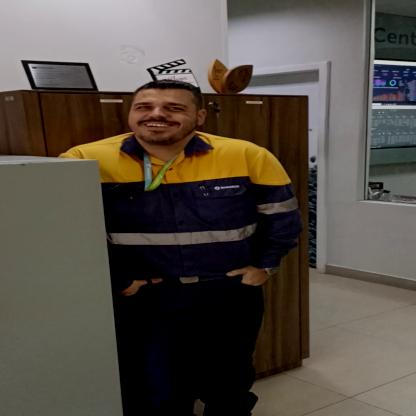Operacional: (44, 129, 312, 284)
